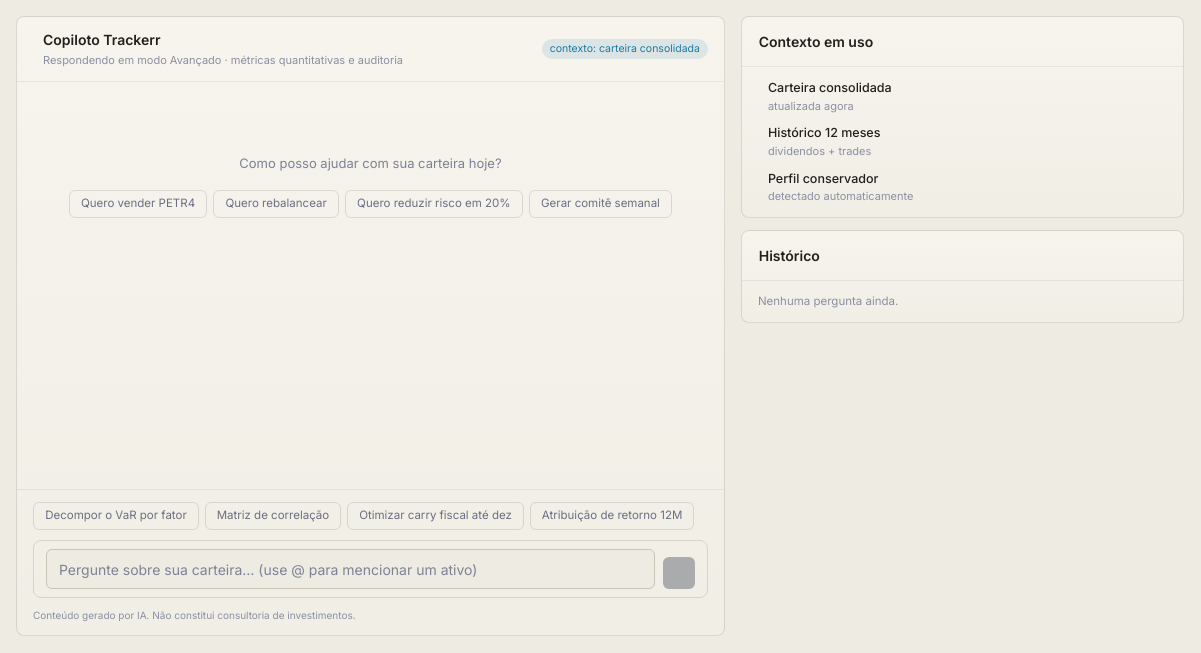
ChatInteligente › mostra fontes e confiança declaradas pelo servidor
In the field: [350, 569] box [46, 549, 655, 589], type "Onde estou fora do alvo?"
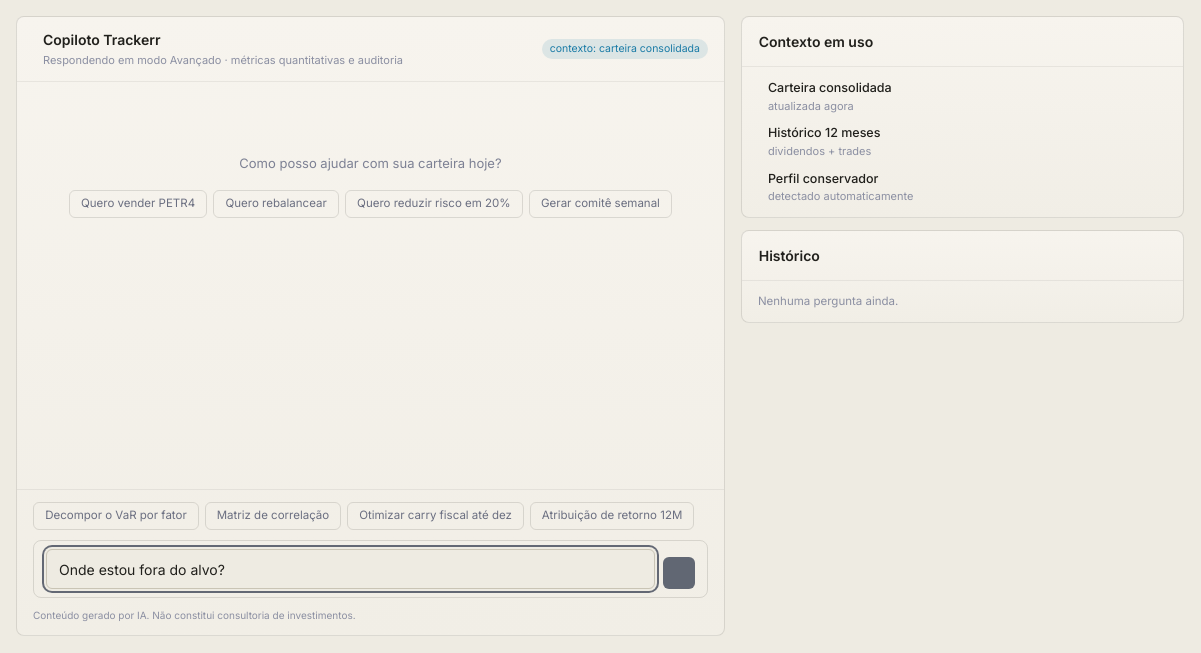
Click the button named "Enviar": [679, 573] box [663, 557, 695, 589]
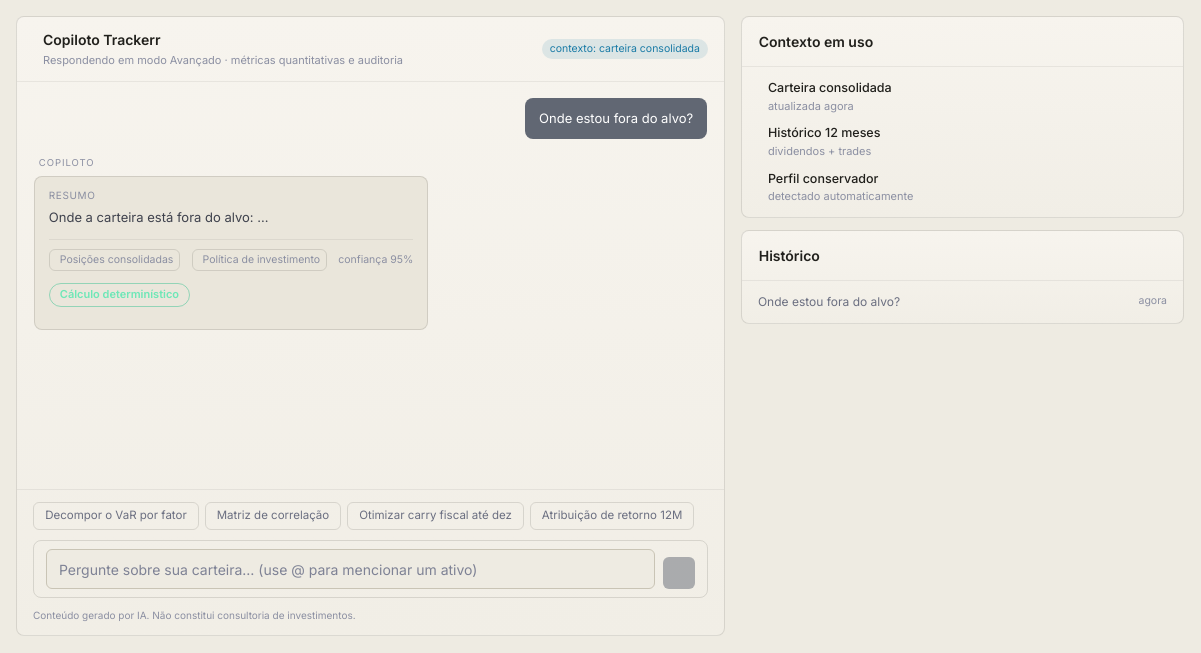
Check: the text "Posições consolidadas" is shown, box [49, 248, 180, 271]
Check: the text "Política de investimento" is shown, box [192, 248, 327, 271]
Check: the text "confiança 95%" is shown, box [338, 252, 413, 268]
